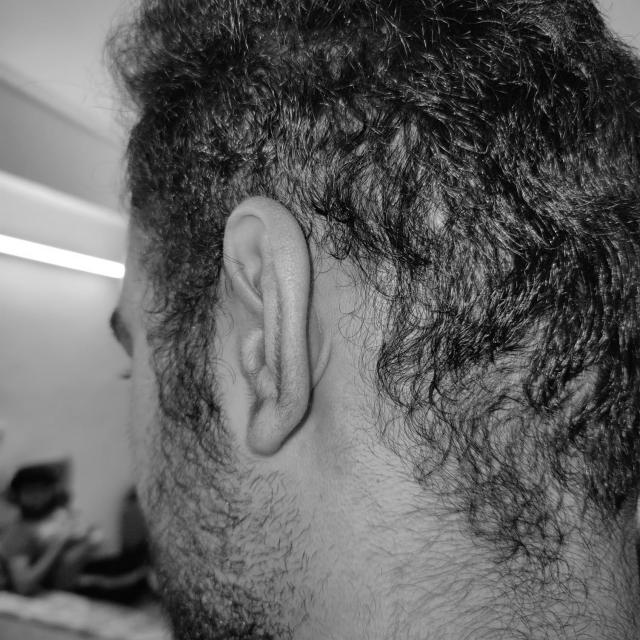ear: (223, 197, 311, 454)
